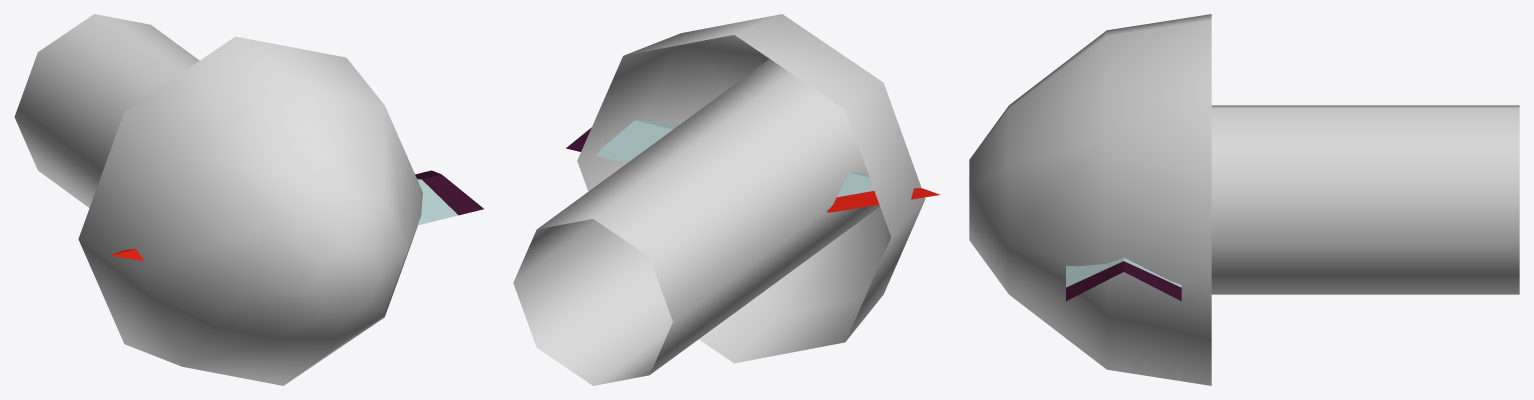
File: laserFlash.fbx
3 renders of one model, left to right at view 1: azimuth 30°, elevation 25°; view 2: azimuth 150°, elevation 25°; view 3: azimuth 270°, elevation 25°, orthographic. The views are drawn at different scales.
Visible parts, largest first — view 1: LaserFlash, Rocket; view 2: LaserFlash, Rocket; view 3: LaserFlash, Rocket.
Boxes of the visible parts, x1=… form: LaserFlash: x1=14, y1=14, x2=422, y2=385; Rocket: x1=110, y1=170, x2=483, y2=261; LaserFlash: x1=513, y1=14, x2=925, y2=385; Rocket: x1=566, y1=120, x2=940, y2=212; LaserFlash: x1=969, y1=14, x2=1519, y2=385; Rocket: x1=1066, y1=257, x2=1181, y2=301.
Size of the model in its own units: 68.63 by 61.84 by 86.01.
Materials: 2 (1 with a texture image).
